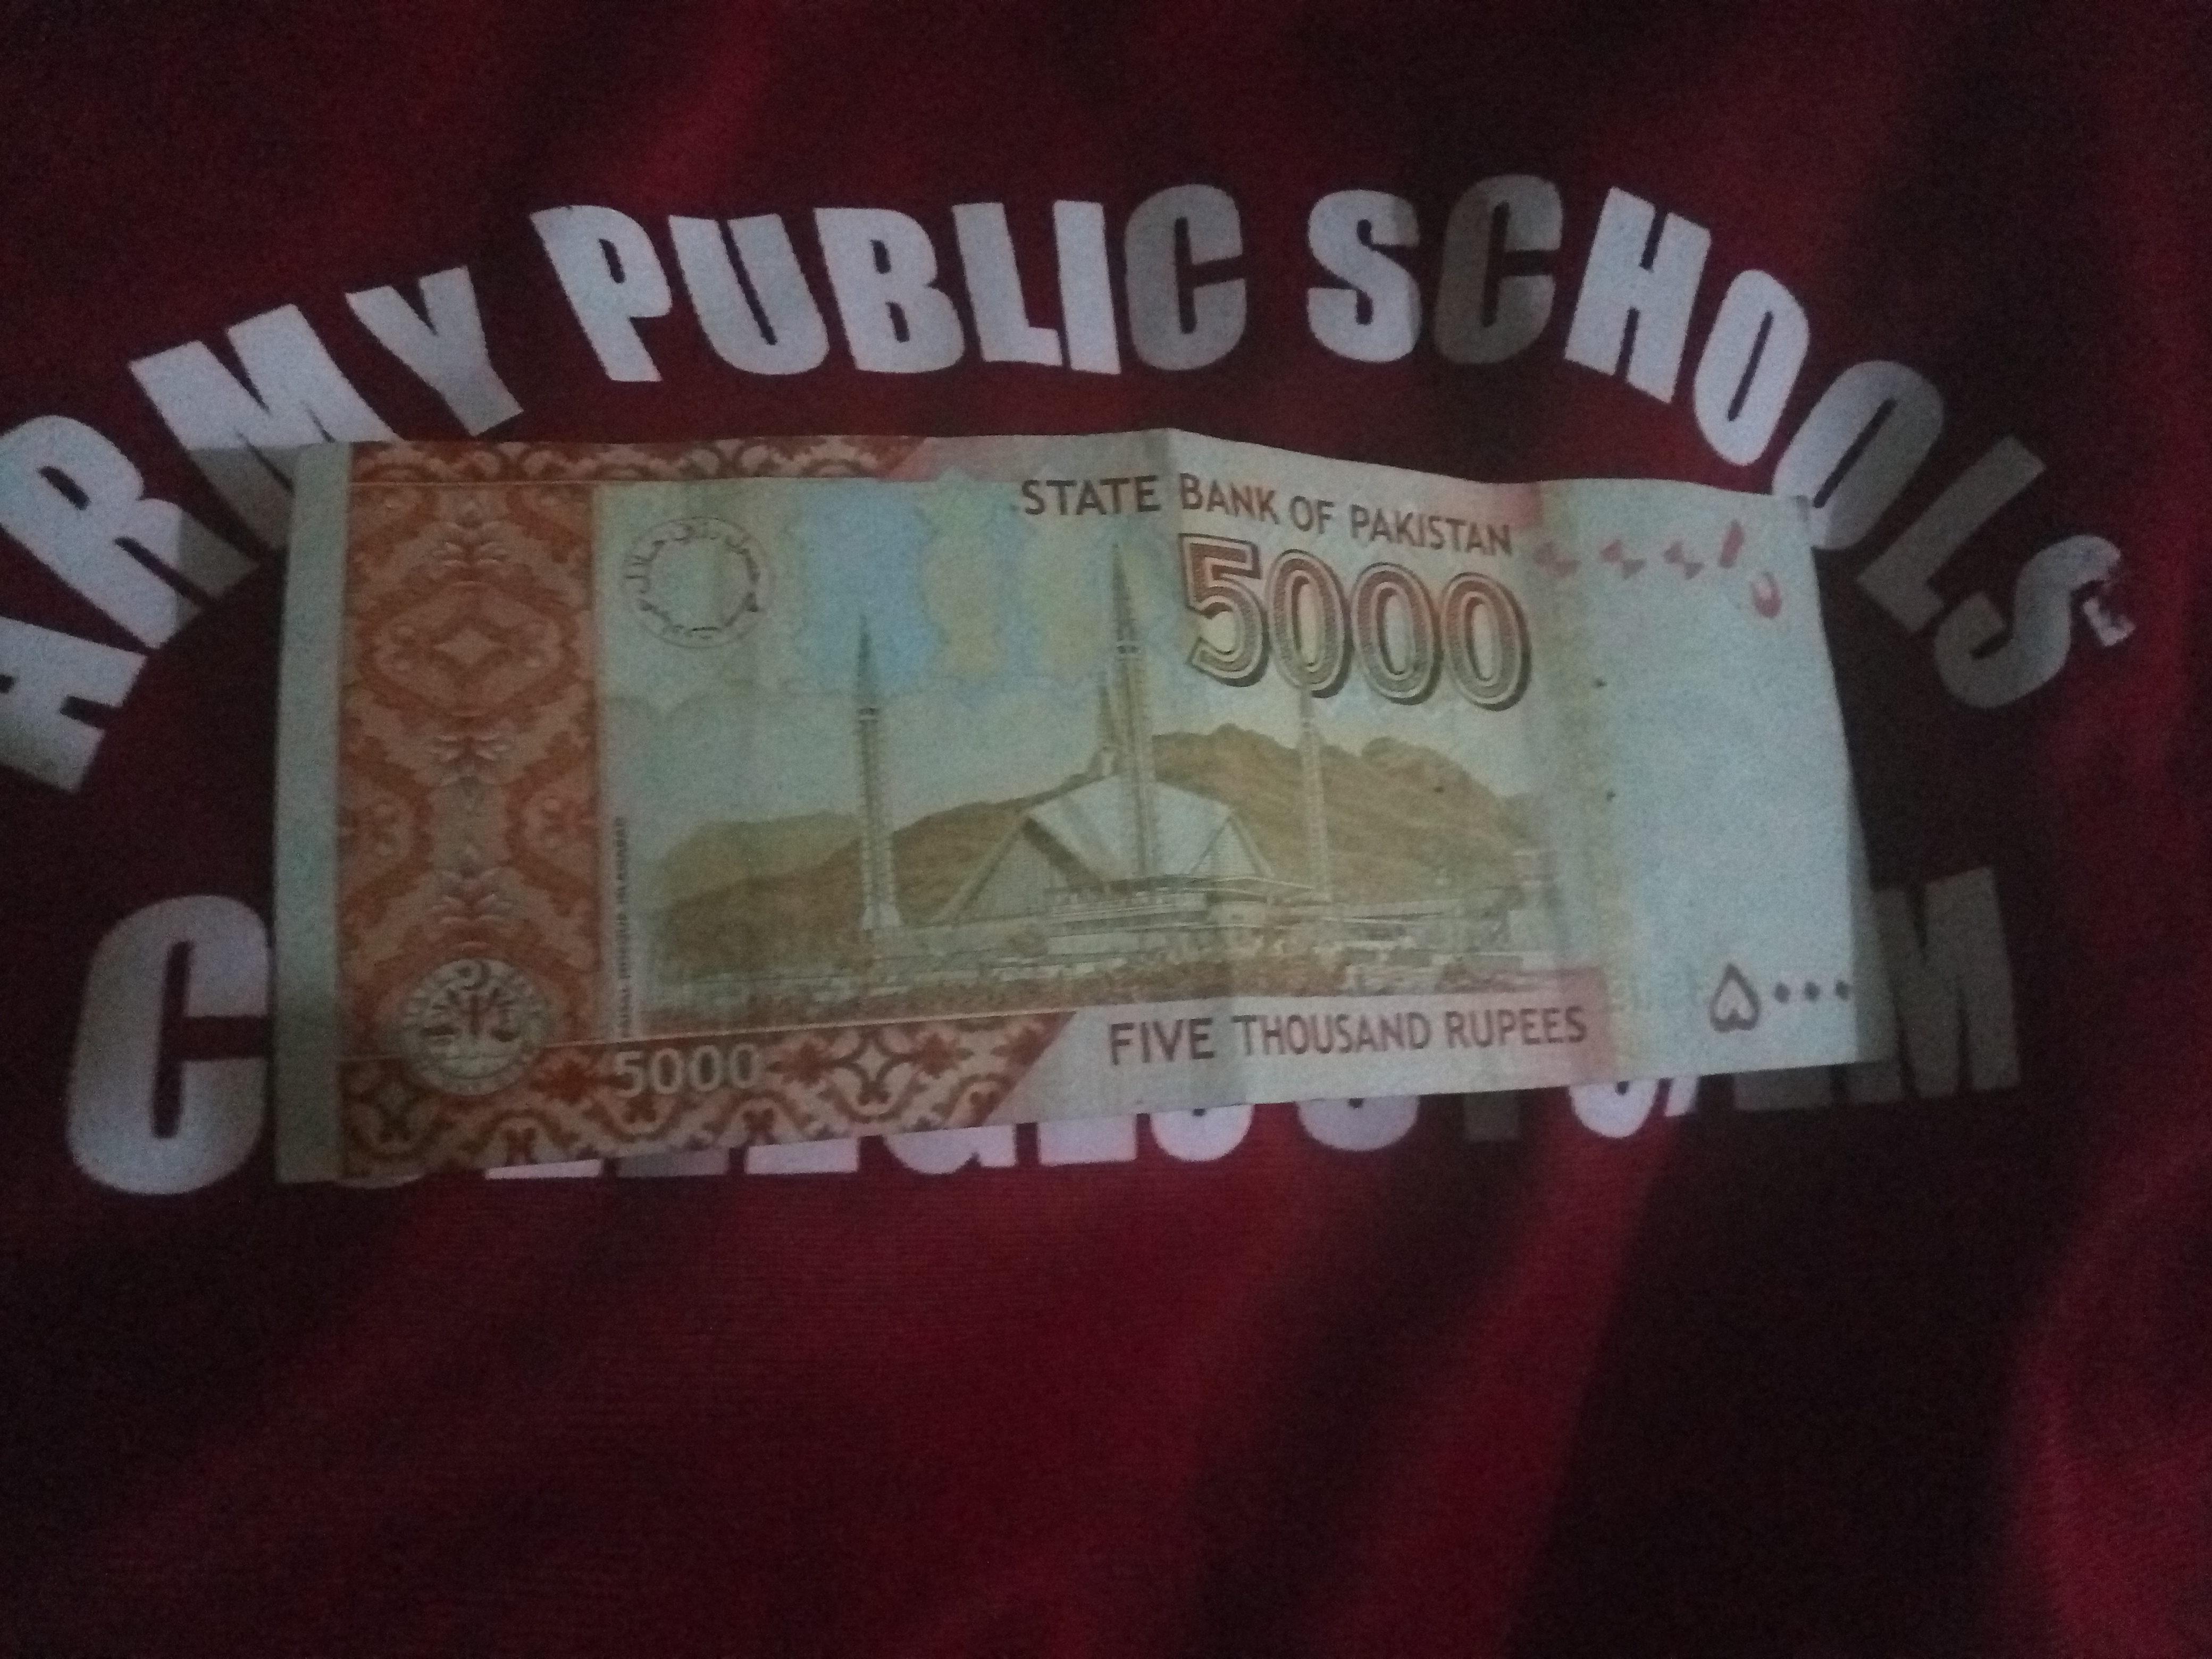5000 rupee: (260, 448, 1893, 1129)
